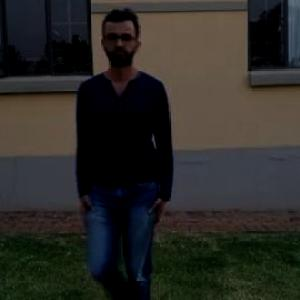follow: (70, 10, 170, 299)
